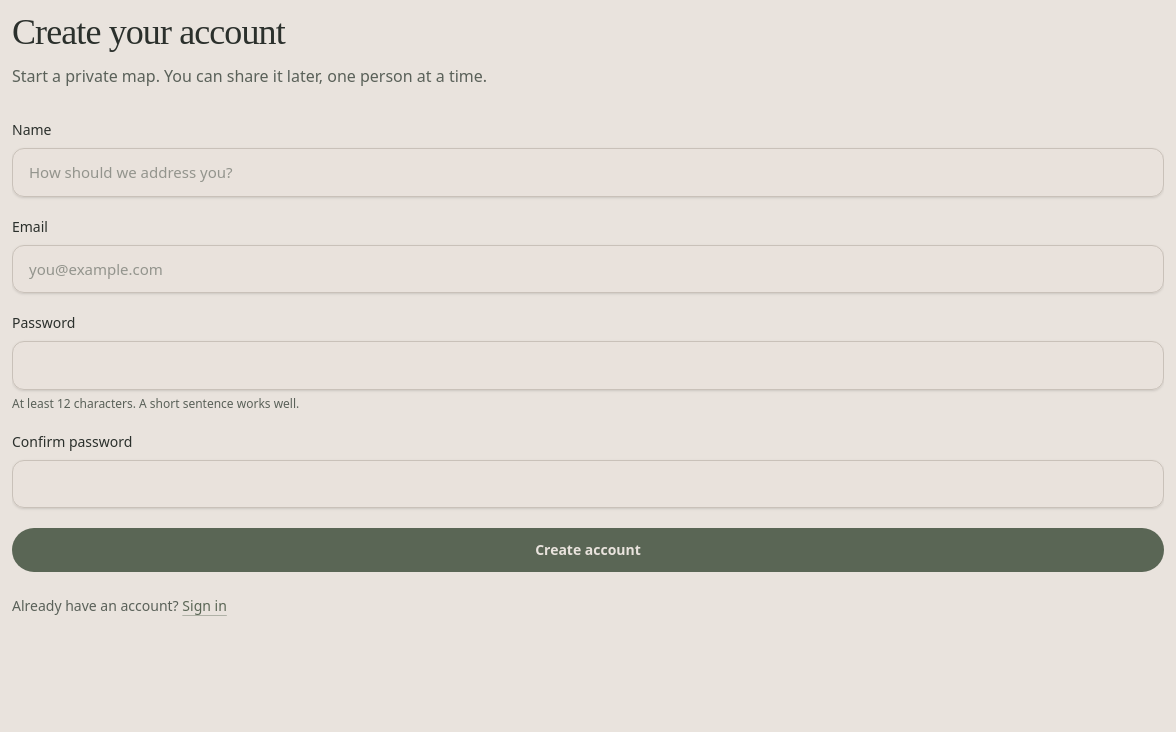
SignUpForm › asks for the emailed code instead of signing the person in
Type "Ada" into the field labelled "Name" at (588,172), box [12,148,1164,196]
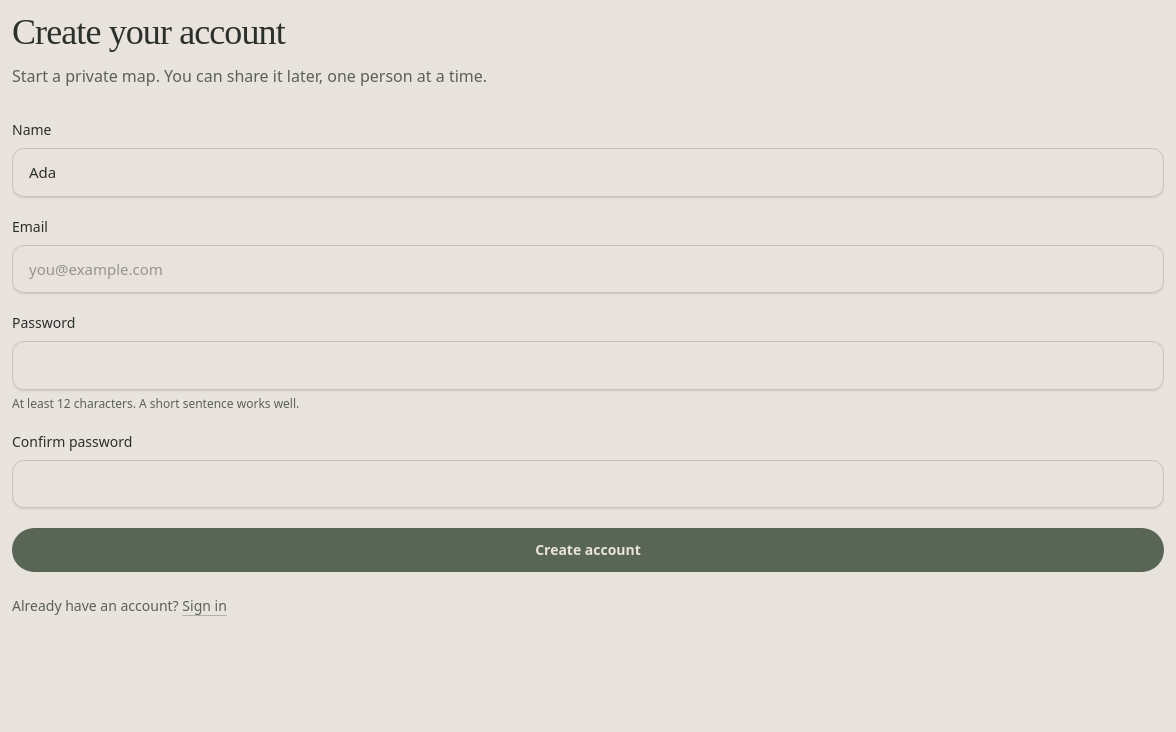
Type "ada@example.com" into the field labelled "Email" at (588,269), box [12,244,1164,293]
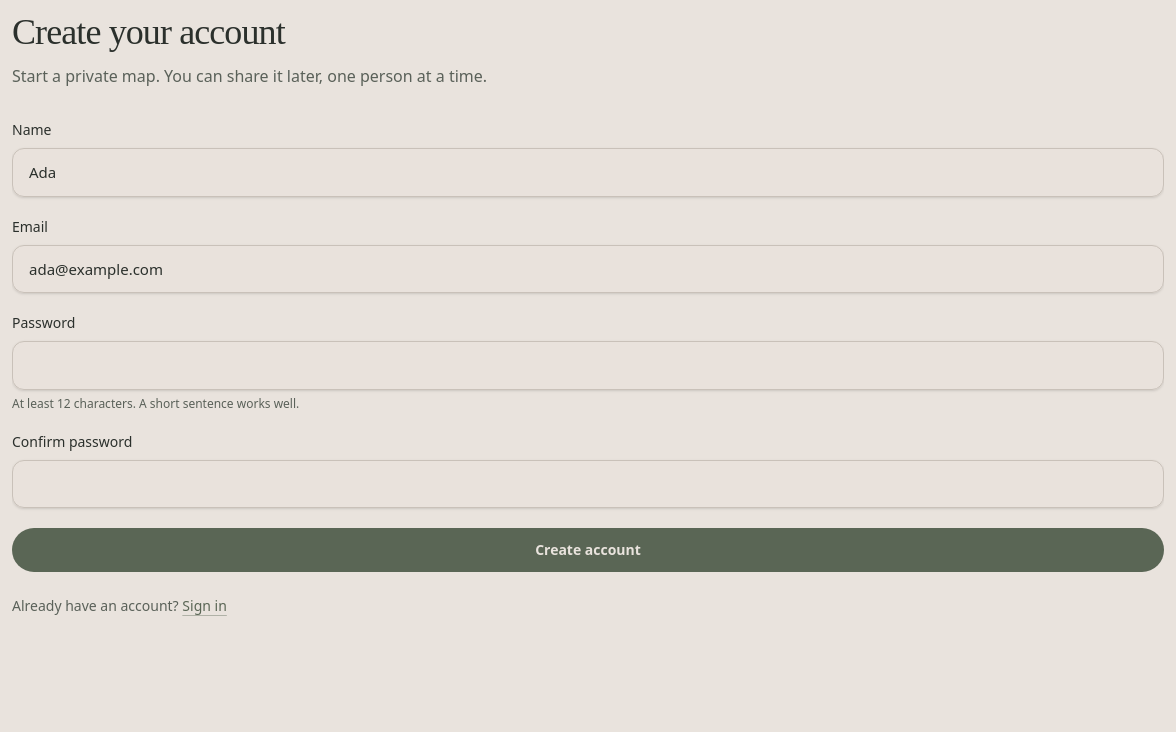
Type "a long passphrase here" into the password field labelled "Password" at (588,365), box [12,341,1164,390]
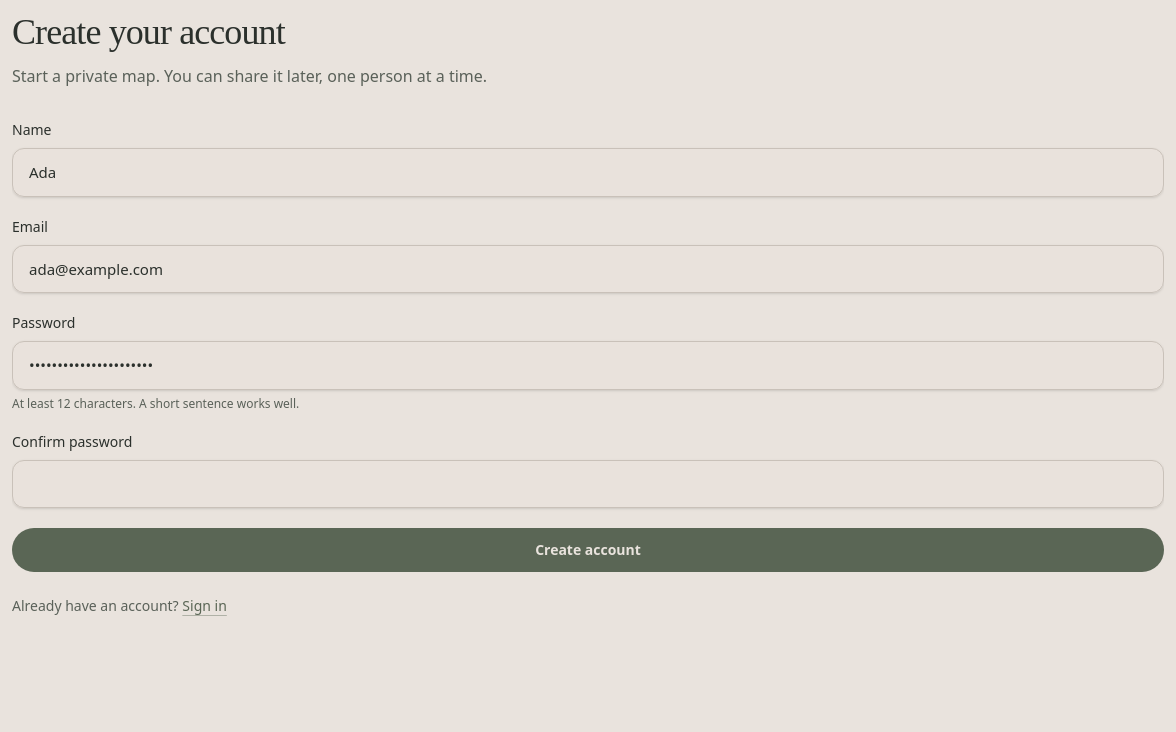
Type "a long passphrase here" into the password field labelled "Confirm password" at (588,484), box [12,460,1164,508]
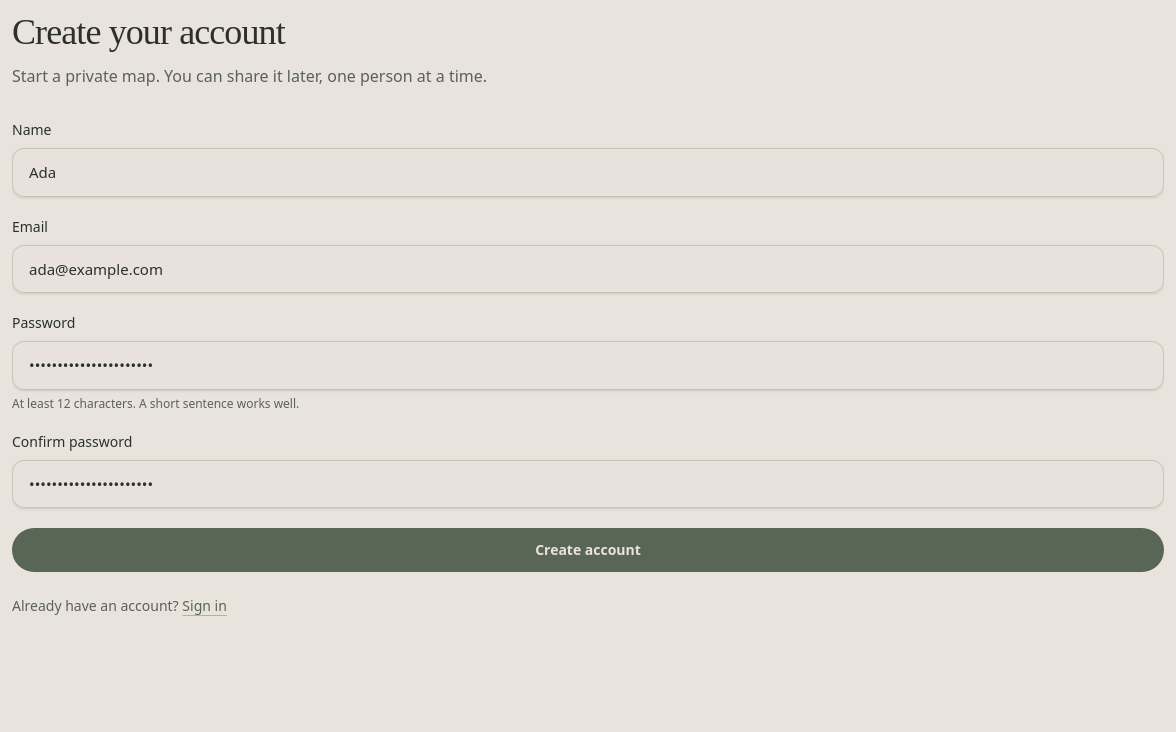
Click the button "Create account" at (588,550), box [12,528,1164,572]
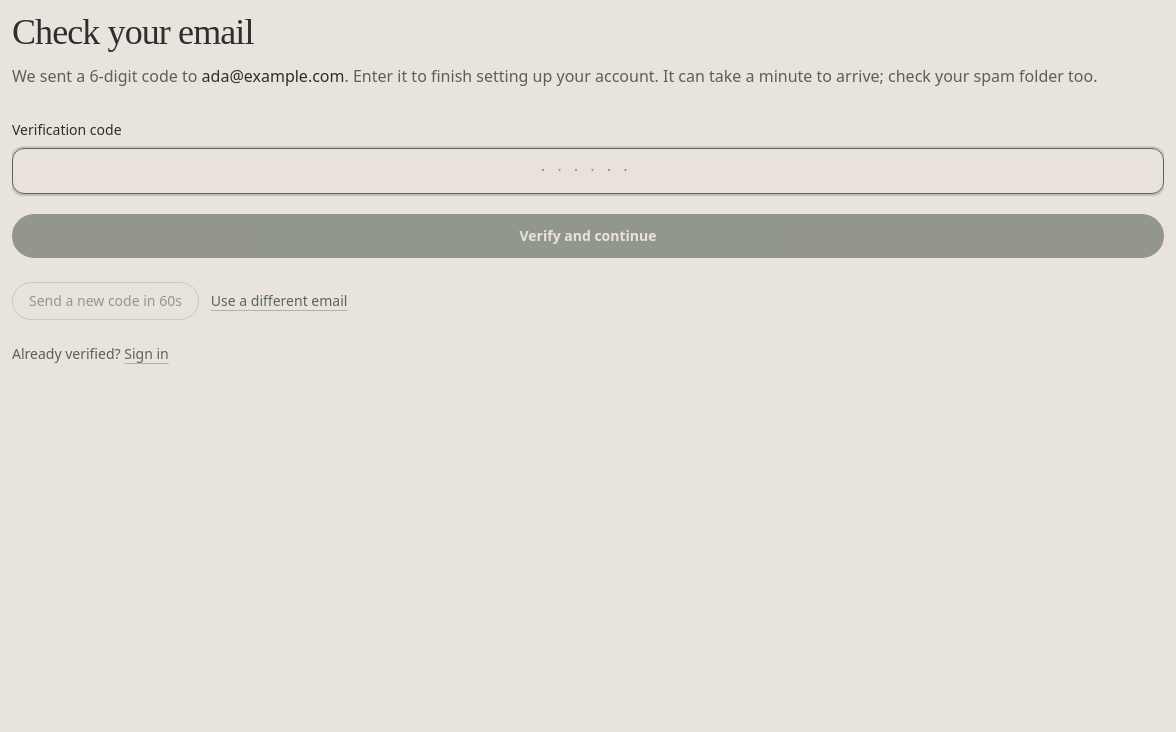
Now the heading "Check your email" is shown, box [12,12,254,52]
Now the text "ada@example.com" is shown, box [202,65,344,87]
